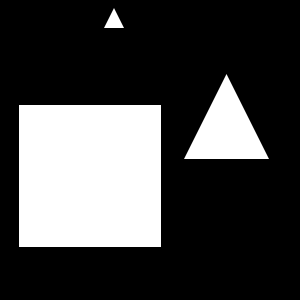circle: (19, 105, 161, 247)
triangle: (184, 74, 269, 159), (104, 8, 124, 28)
